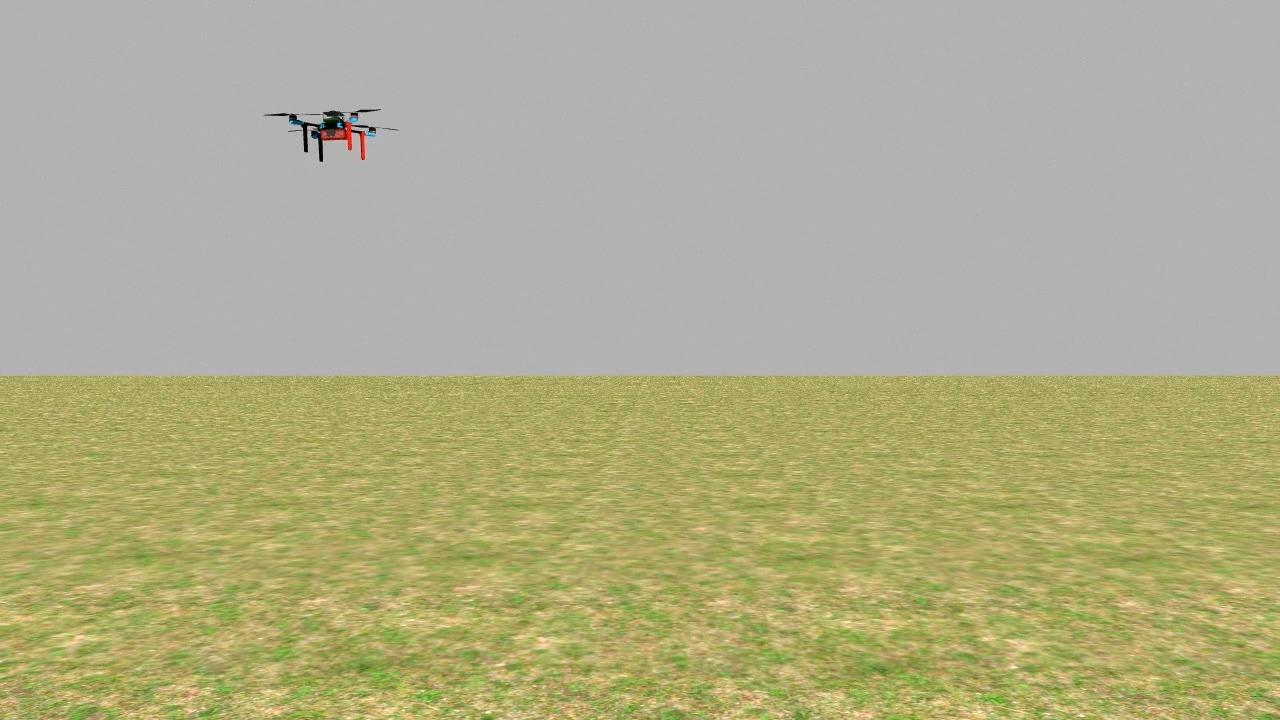UAV: (266, 92, 404, 178)
